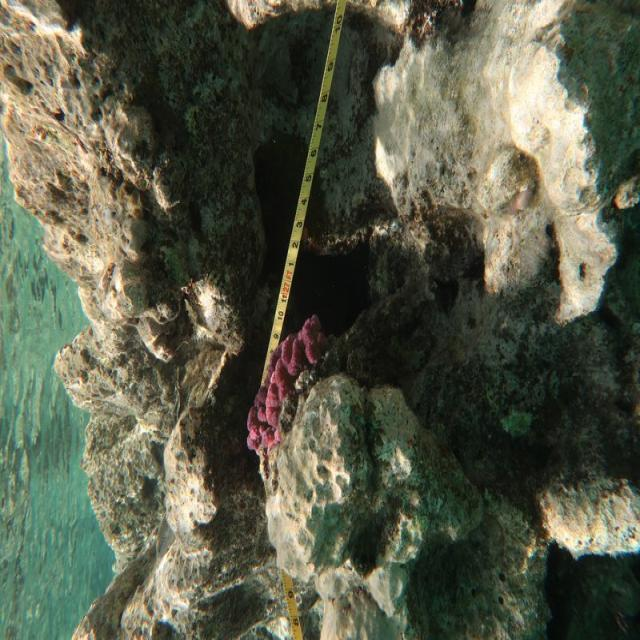Healthy Coral: (241, 314, 329, 458)
